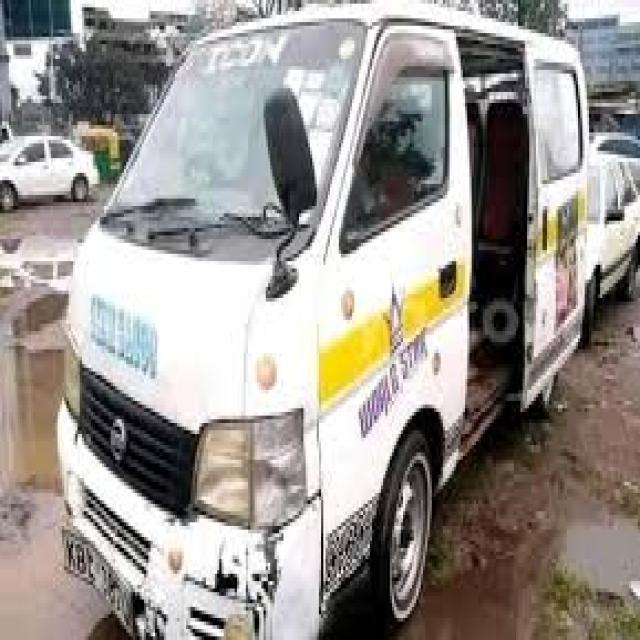matatu: (50, 10, 606, 640)
